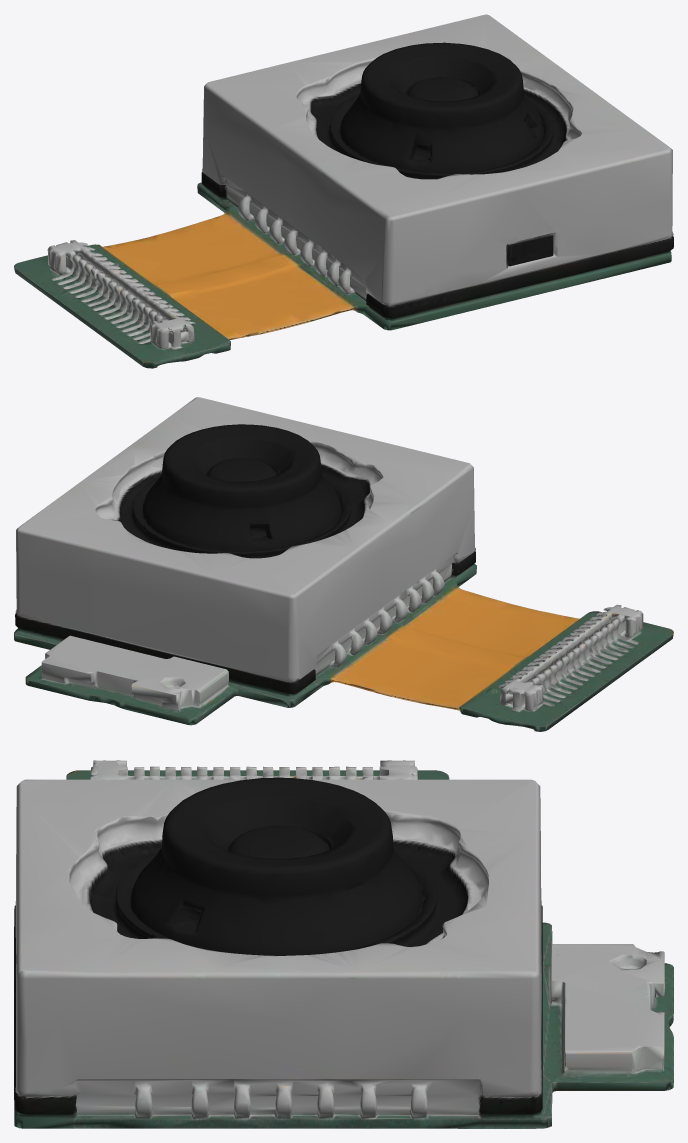
3 renders of one model, top to bottom at view 1: azimuth 30°, elevation 25°; view 2: azimuth 150°, elevation 25°; view 3: azimuth 270°, elevation 25°, orthographic. The views are drawn at different scales.
Parts seen in each view (by area): view 1: Cam; view 2: Cam; view 3: Cam.
Part boxes in pixels (x1=…): Cam: x1=14, y1=14, x2=673, y2=368; Cam: x1=14, y1=397, x2=673, y2=731; Cam: x1=14, y1=760, x2=673, y2=1128.
Bounding box in the file's own units: 0.0187 × 0.0053 × 0.0148.
1 material, 1 textured.
